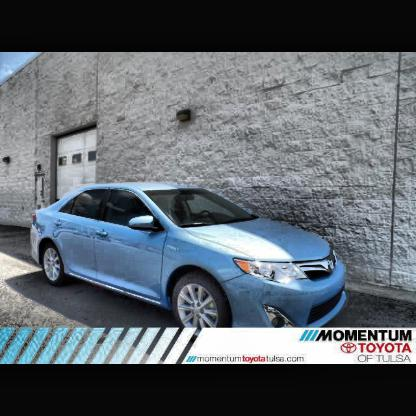Toyota Camry Sedan 2012: (31, 183, 347, 329)
